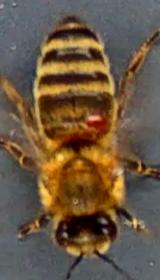varroa_mite: (78, 104, 108, 138)
